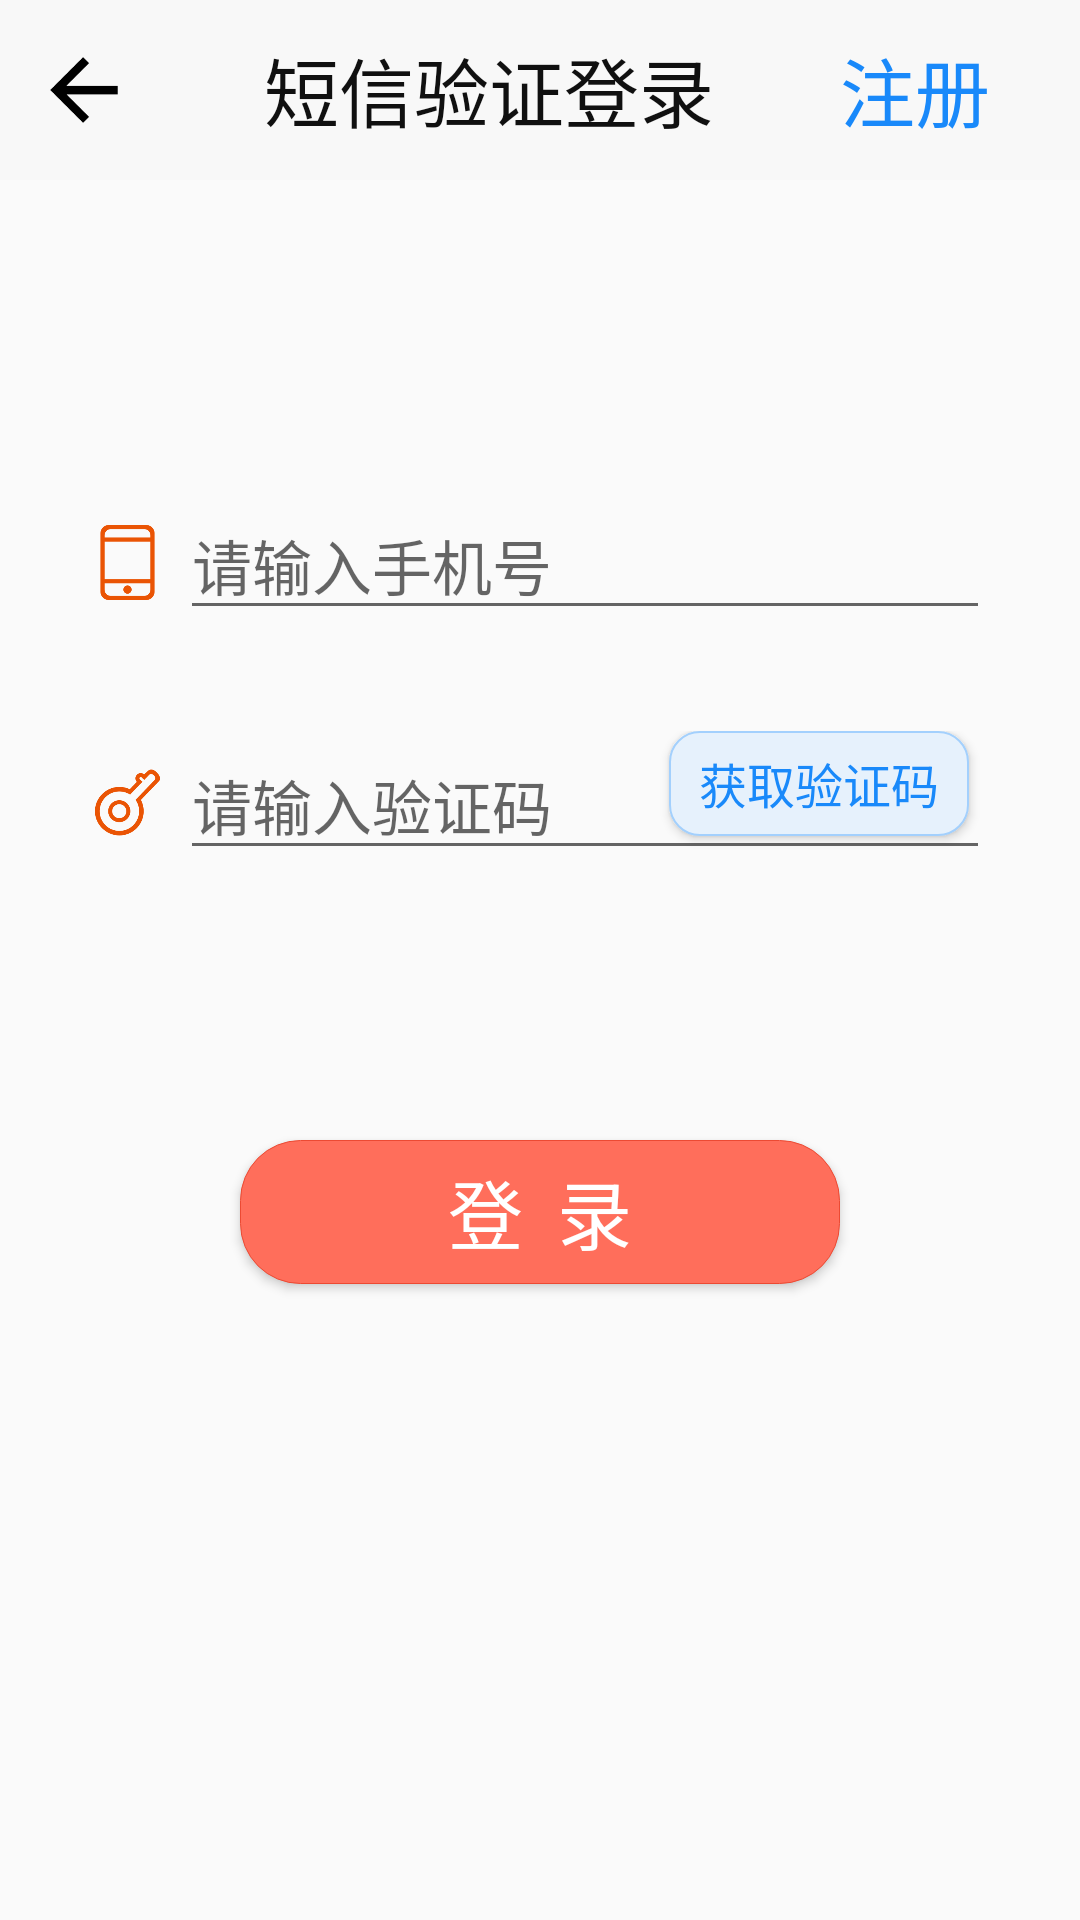

Screen size 1080×1920. Icon name, then its box in pixels as bbox=[x1, y1, x2, y2]:
back: bbox=[50, 57, 118, 123]
register tel: bbox=[100, 525, 155, 600]
